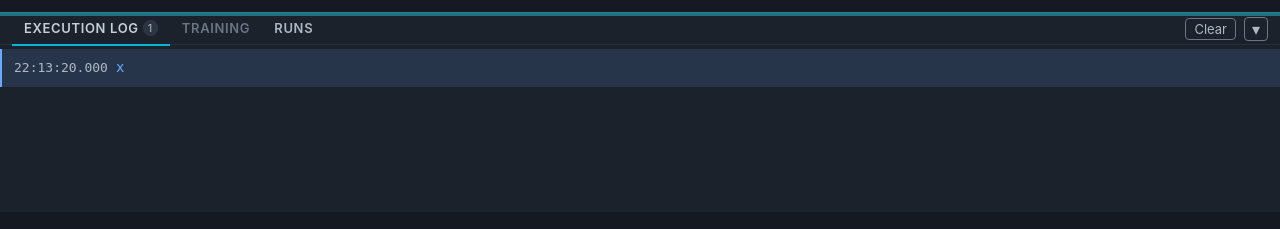
Test case: ResultsPanel — collapse & resize › toggles collapse, swapping the chevron and aria-label, and restores height
Click the button named "Collapse panel" at (1256, 28), box [1244,16,1268,40]
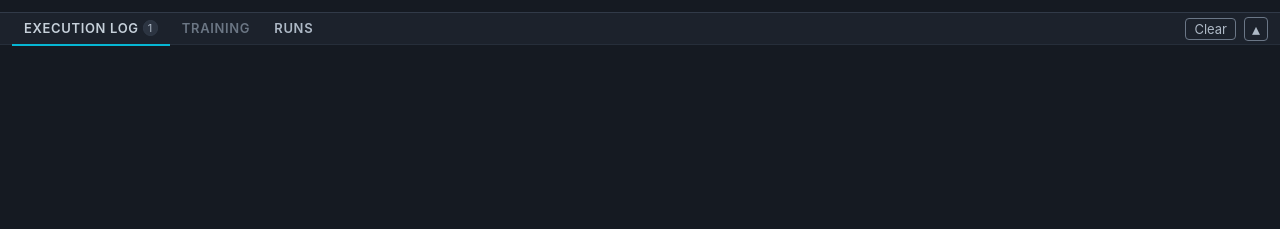
Result: the button named "Expand panel" reads "▴"
Note: expand again
Click the button named "Expand panel" at (1256, 28), box [1244,16,1268,40]
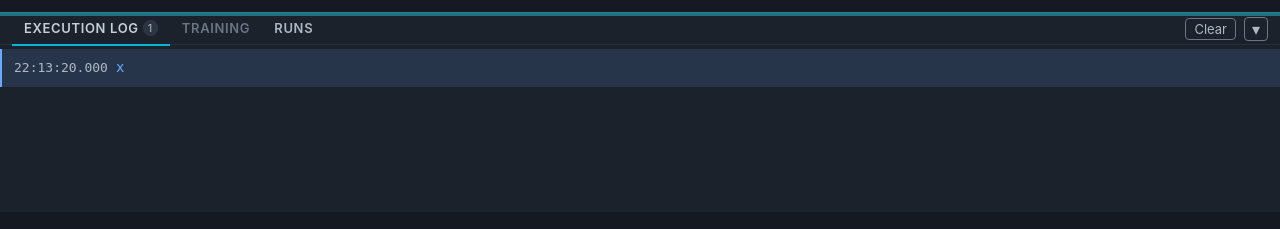
Result: the text "x" is shown at [116,57,124,79]
